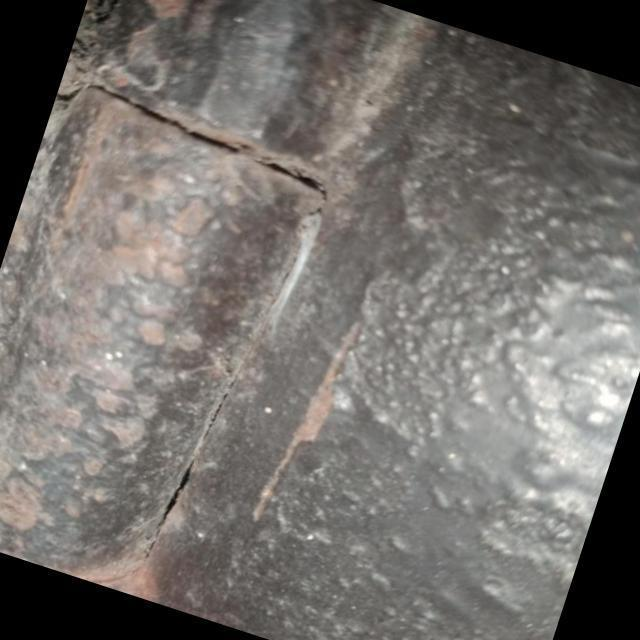defect: (58, 81, 334, 209), (142, 456, 195, 567), (202, 374, 240, 441)
